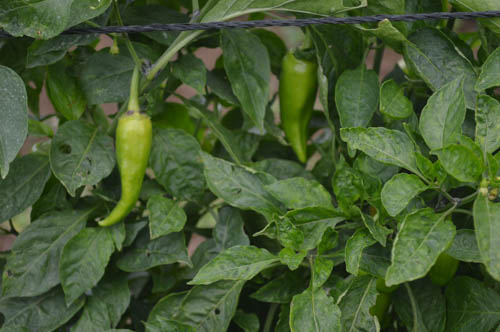ChiliPepper: (93, 116, 152, 230), (277, 51, 316, 165)
